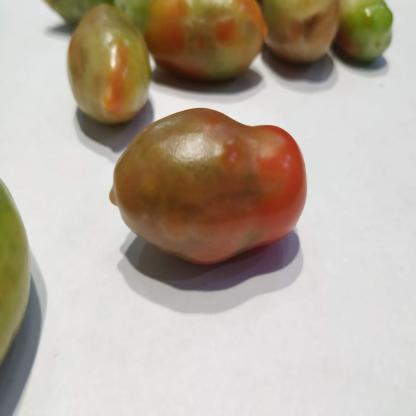T_F_R: (110, 108, 308, 264)
